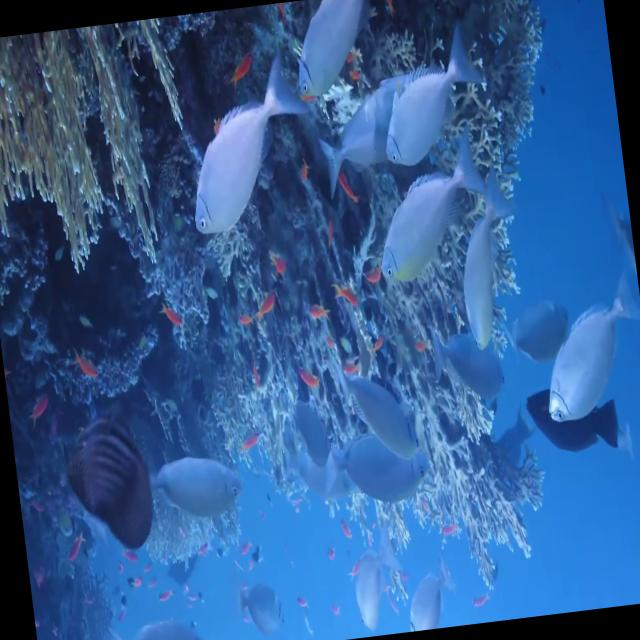fish: (170, 60, 330, 259), (526, 225, 640, 440), (363, 137, 506, 305), (442, 156, 546, 374), (367, 19, 499, 180), (306, 70, 412, 210), (517, 362, 633, 487), (334, 430, 454, 533), (328, 356, 432, 466), (279, 0, 378, 108), (144, 443, 256, 522), (274, 387, 346, 497), (498, 293, 585, 383), (388, 546, 462, 632), (108, 595, 222, 640), (233, 558, 295, 640), (341, 552, 398, 638)
